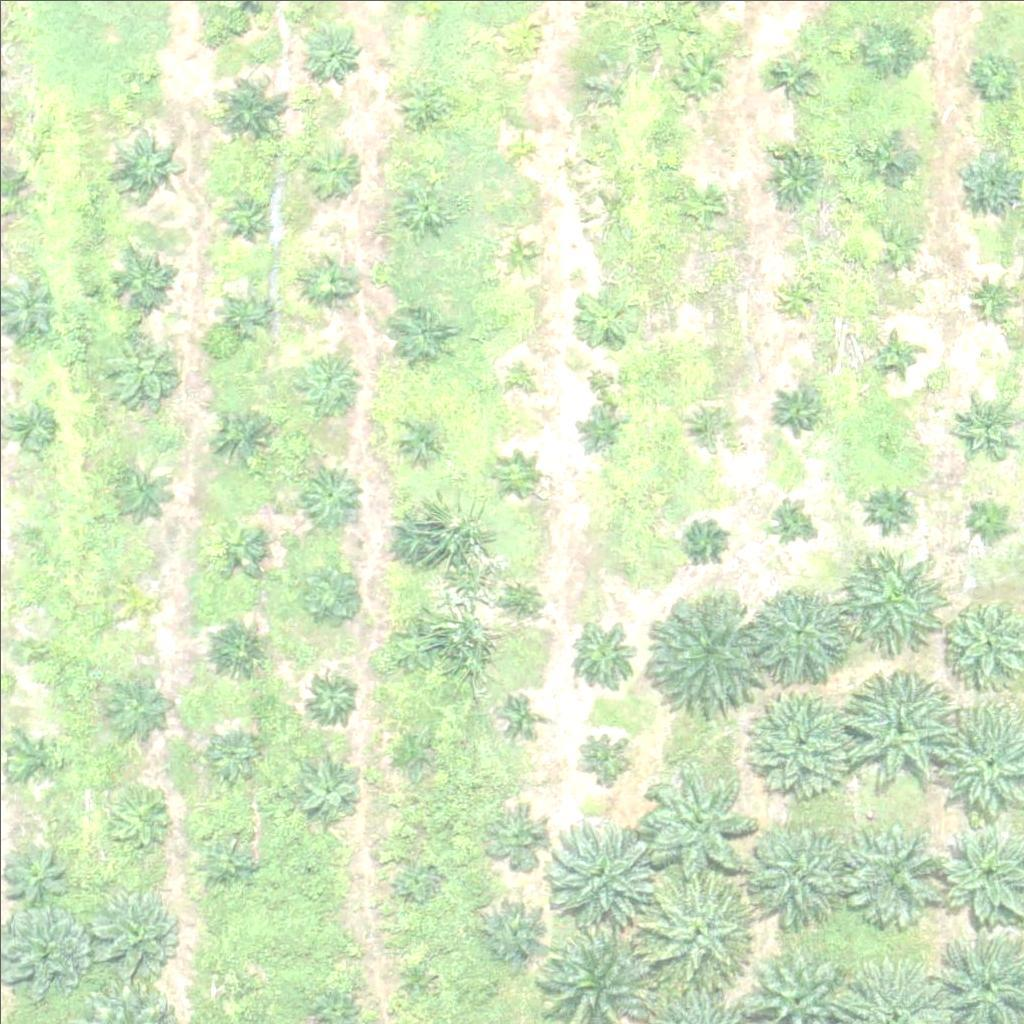Kelapa_Sawit: (834, 665, 959, 791), (638, 585, 763, 710), (638, 770, 751, 883), (749, 684, 862, 797), (542, 810, 654, 923), (638, 875, 750, 988), (841, 534, 953, 647), (752, 585, 852, 686), (746, 820, 846, 921), (847, 821, 947, 922), (87, 884, 174, 972), (206, 63, 293, 151), (110, 124, 185, 200), (296, 554, 371, 630), (564, 619, 639, 694), (304, 139, 367, 202), (299, 346, 362, 409), (301, 22, 364, 85), (958, 386, 1021, 449), (386, 303, 449, 366), (956, 150, 1019, 213), (390, 173, 453, 236), (385, 503, 448, 566), (489, 804, 552, 867), (479, 902, 542, 965), (105, 674, 168, 737), (206, 619, 269, 682), (196, 829, 259, 892), (301, 462, 363, 525), (211, 402, 273, 465), (111, 245, 173, 308), (108, 336, 171, 398), (103, 457, 165, 520), (762, 146, 824, 209), (668, 45, 730, 108), (300, 760, 362, 823), (4, 847, 66, 910), (106, 784, 168, 847), (572, 285, 634, 348), (862, 23, 912, 74), (394, 411, 444, 462), (864, 141, 914, 192), (575, 726, 625, 777), (10, 736, 60, 787), (387, 617, 437, 668), (968, 276, 1018, 327), (967, 52, 1017, 103), (769, 52, 819, 103), (305, 253, 355, 303), (213, 523, 263, 573), (6, 402, 56, 452), (864, 484, 914, 534), (770, 386, 820, 436), (400, 85, 450, 135), (305, 671, 355, 721), (211, 730, 261, 780), (574, 407, 624, 457), (674, 182, 724, 232), (871, 222, 921, 272), (963, 489, 1013, 539), (225, 191, 274, 242), (492, 454, 530, 492), (685, 526, 723, 564), (399, 863, 437, 901), (395, 961, 433, 999), (392, 737, 430, 775), (499, 353, 537, 391), (501, 234, 539, 272), (499, 127, 537, 165), (503, 27, 541, 65), (777, 280, 815, 318), (874, 335, 912, 373), (769, 500, 806, 538), (209, 968, 247, 1005), (227, 295, 264, 333), (692, 402, 729, 440), (680, 273, 717, 311), (502, 693, 539, 730), (498, 583, 535, 620), (17, 525, 42, 550), (17, 641, 42, 666), (122, 587, 147, 612), (132, 60, 157, 85), (295, 850, 320, 875)
